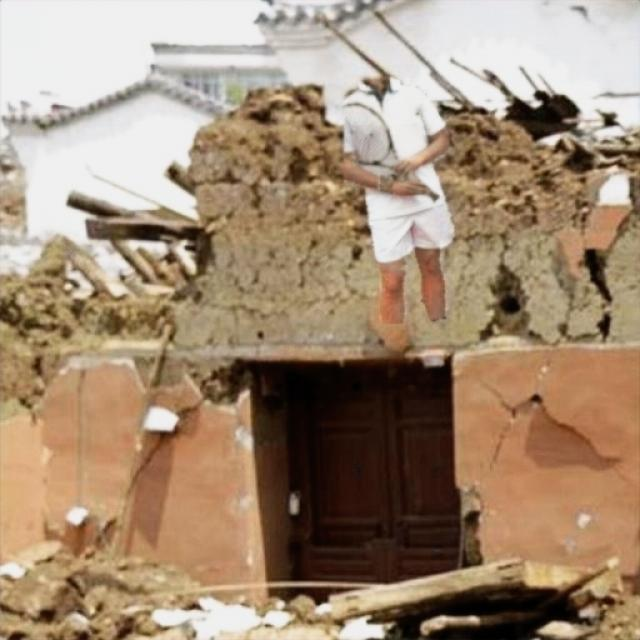Person in Rubble: (344, 78, 454, 322)
